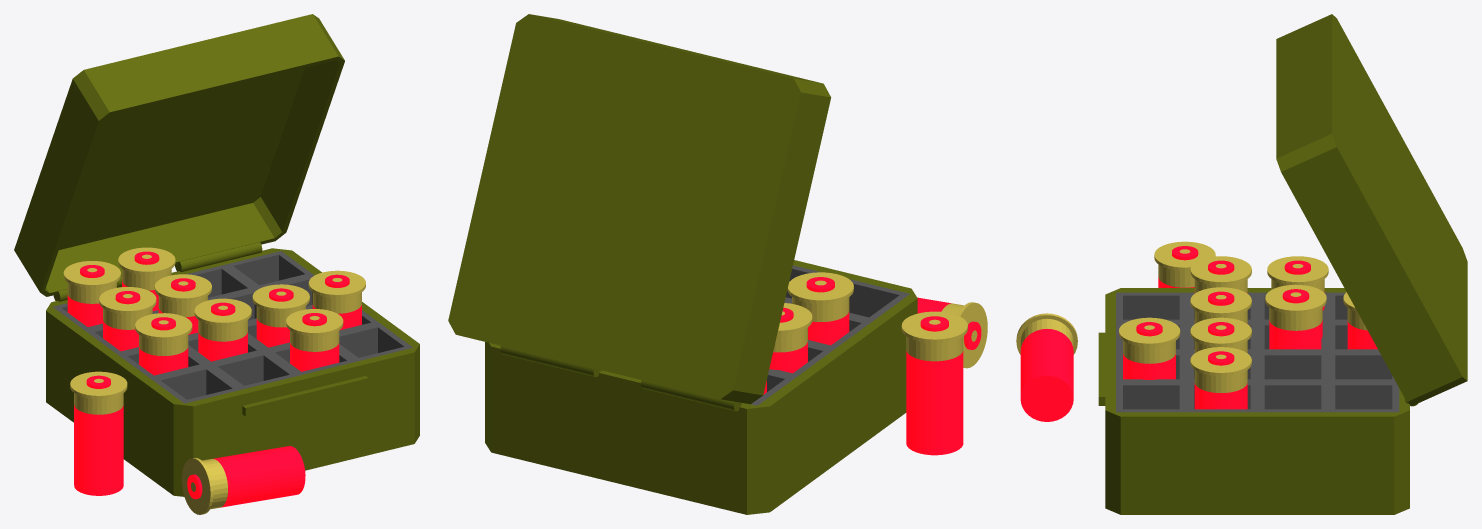
Rendered from Shell Box.fbx.
3 renders of one model, left to right at view 1: azimuth 30°, elevation 25°; view 2: azimuth 150°, elevation 25°; view 3: azimuth 270°, elevation 25°, orthographic. The views are drawn at different scales.
Visible parts, largest first — view 1: Cube, Cylinder, Cylinder.010, Cylinder.002, Cylinder.004, Cylinder.001, Cylinder.006, Cylinder.005, Cylinder.003, Cylinder.009, Cylinder.008, Cylinder.007; view 2: Cube, Cylinder, Cylinder.001, Cylinder.005, Cylinder.010; view 3: Cube, Cylinder.010, Cylinder.008, Cylinder.009, Cylinder.004, Cylinder, Cylinder.001, Cylinder.002, Cylinder.003, Cylinder.005, Cylinder.007.
Boxes of the visible parts, x1,y1,x2,y2 form: Cube: (14,14,419,496); Cylinder: (70,371,127,495); Cylinder.010: (181,446,305,514); Cylinder.002: (194,298,251,361); Cylinder.004: (286,309,343,371); Cylinder.001: (135,313,192,375); Cylinder.006: (63,261,120,326); Cylinder.005: (99,287,156,351); Cylinder.003: (252,284,309,347); Cylinder.009: (308,270,365,330); Cylinder.008: (154,274,211,334); Cylinder.007: (118,247,175,311); Cube: (448,14,917,514); Cylinder: (901,311,967,455); Cylinder.001: (787,272,853,345); Cylinder.005: (769,303,812,373); Cylinder.010: (917,297,987,368); Cube: (1098,14,1467,514); Cylinder.010: (1016,313,1077,421); Cylinder.008: (1265,284,1326,349); Cylinder.009: (1190,347,1251,409); Cylinder.004: (1119,317,1180,379); Cylinder: (1154,241,1215,287); Cylinder.001: (1190,256,1251,293); Cylinder.002: (1190,287,1251,323); Cylinder.003: (1190,317,1251,352); Cylinder.005: (1267,256,1328,310); Cylinder.007: (1343,292,1377,349).
Size of the model in its own units: 2.56 by 2.96 by 2.73.
